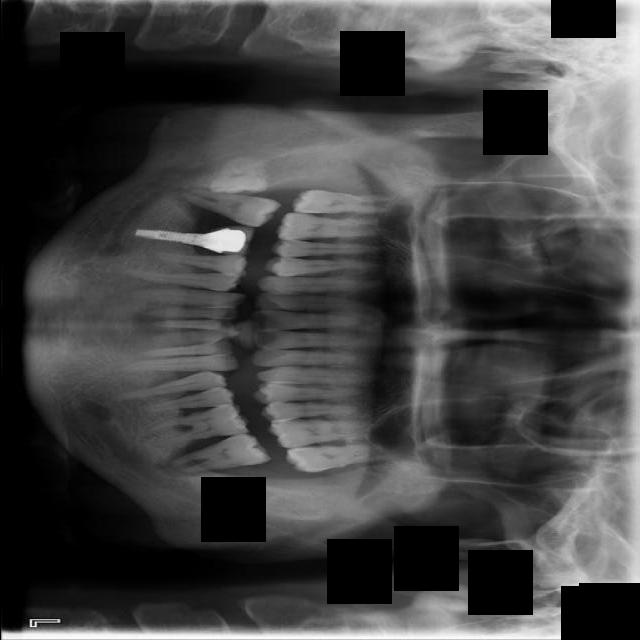73: (14, 624, 22, 632)
BioHorizons Implant: (284, 443, 398, 473)
Blue Sky Bio Implant: (166, 430, 272, 475)
Caries: (291, 189, 399, 214)
Implant: (177, 185, 281, 231)
Keystone Dental Implant: (204, 152, 267, 196)
